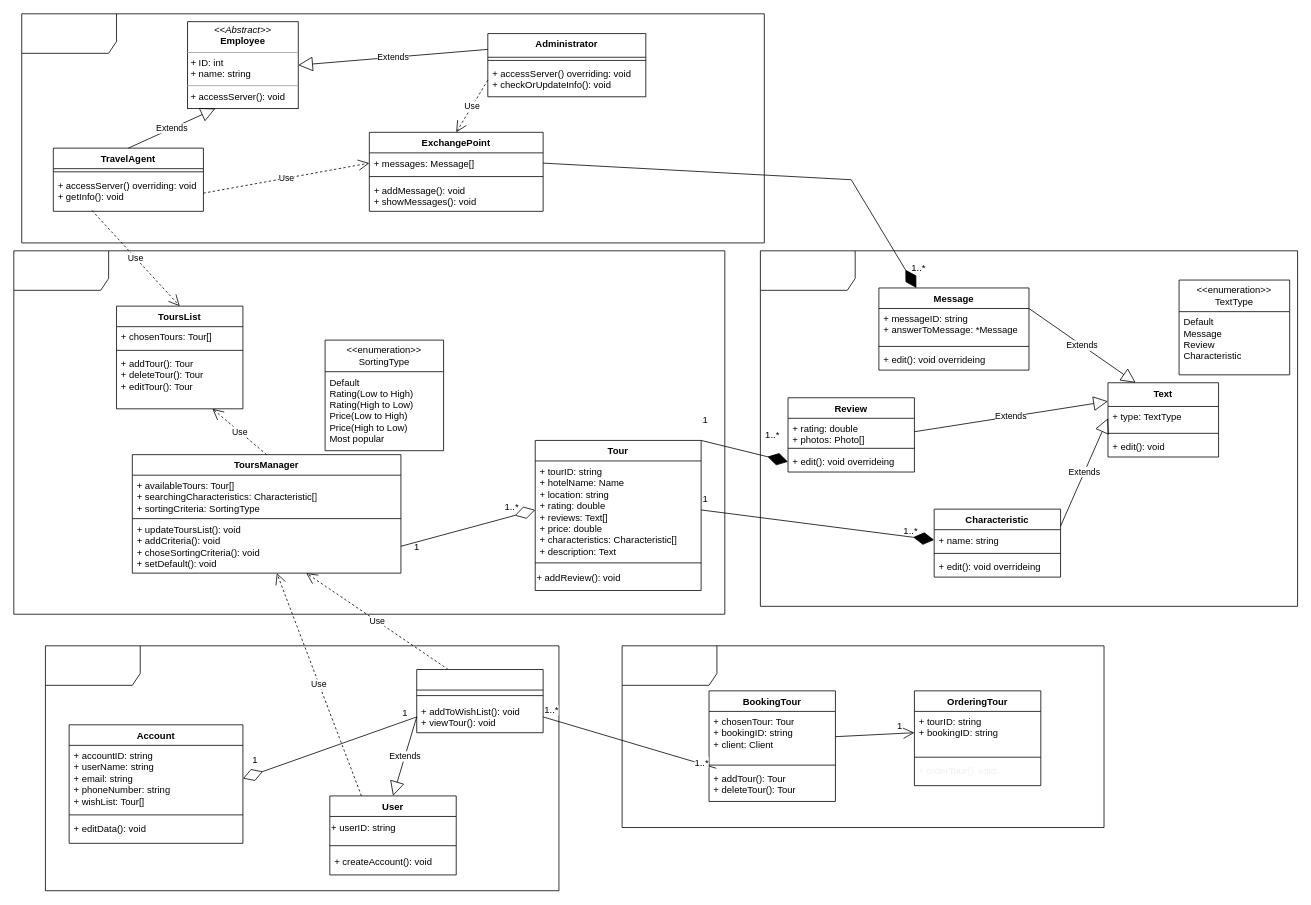
Image size: 1311x905. Some labels were removed from this diagram. Here are the shapes that lost their labels. From the top down, the box of each, then its label:
(21, 13, 764, 243): System messages exchange point
(13, 250, 725, 614): Tours management
(760, 250, 1298, 606): Extra text component
(416, 669, 543, 733): Client
(621, 645, 1104, 828): Booking and ordering tour
(45, 645, 559, 891): Registration and Authorization
